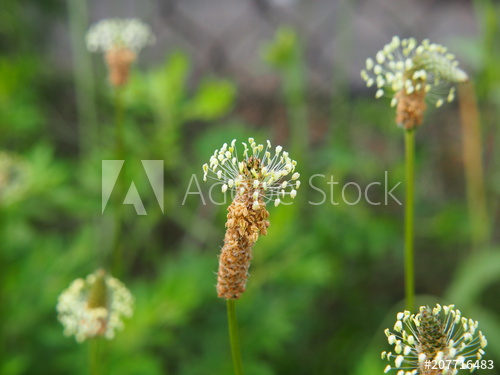buckhorn plantain: (193, 127, 289, 375), (361, 22, 466, 217), (43, 261, 148, 367), (377, 297, 489, 375)
